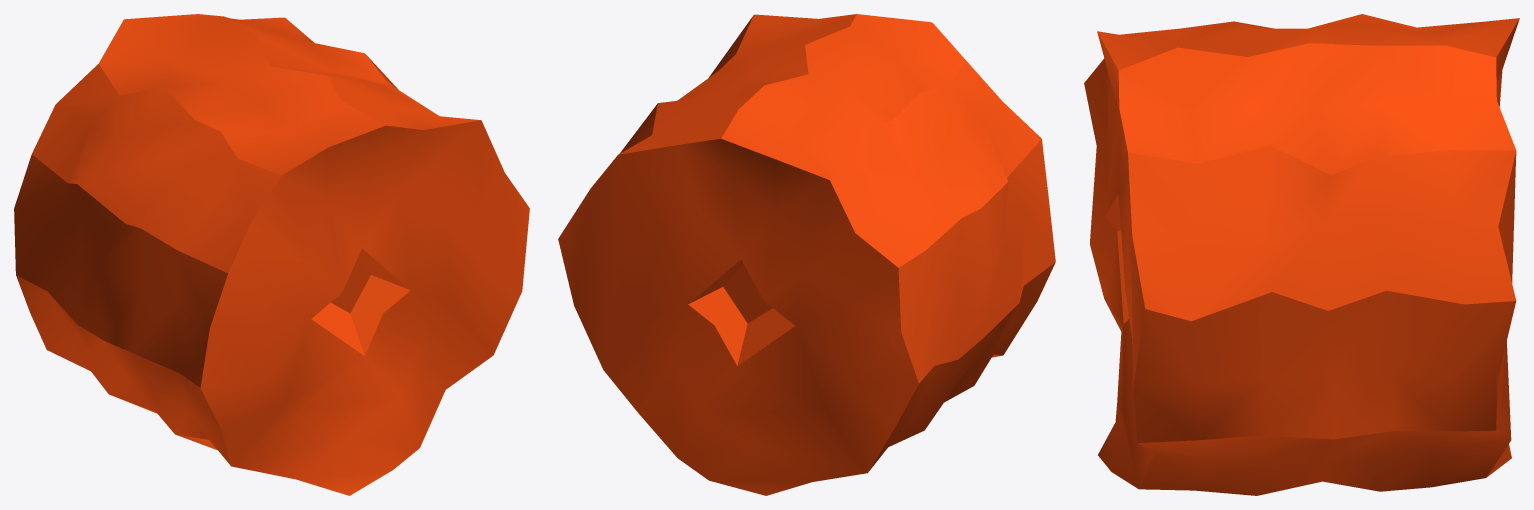
File: Hay_1_1.fbx
3 views of the same model, side by side, from view 1: azimuth 30°, elevation 25°; view 2: azimuth 150°, elevation 25°; view 3: azimuth 270°, elevation 25° (orthographic). The views are drawn at different scales.
Parts seen in each view (by area): view 1: Hay_1_1; view 2: Hay_1_1; view 3: Hay_1_1.
Boxes of the visible parts, x1,y1,x2,y2 form: Hay_1_1: (14, 14, 529, 495); Hay_1_1: (558, 14, 1055, 495); Hay_1_1: (1084, 14, 1519, 495).
Bounding box in the file's own units: 39.66 × 38.17 × 34.62.
